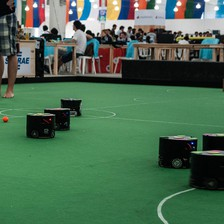ball: (1, 113, 8, 123)
robot: (187, 146, 224, 190), (156, 132, 194, 170), (23, 111, 55, 140), (201, 131, 224, 150), (54, 106, 71, 131), (66, 95, 82, 116)
